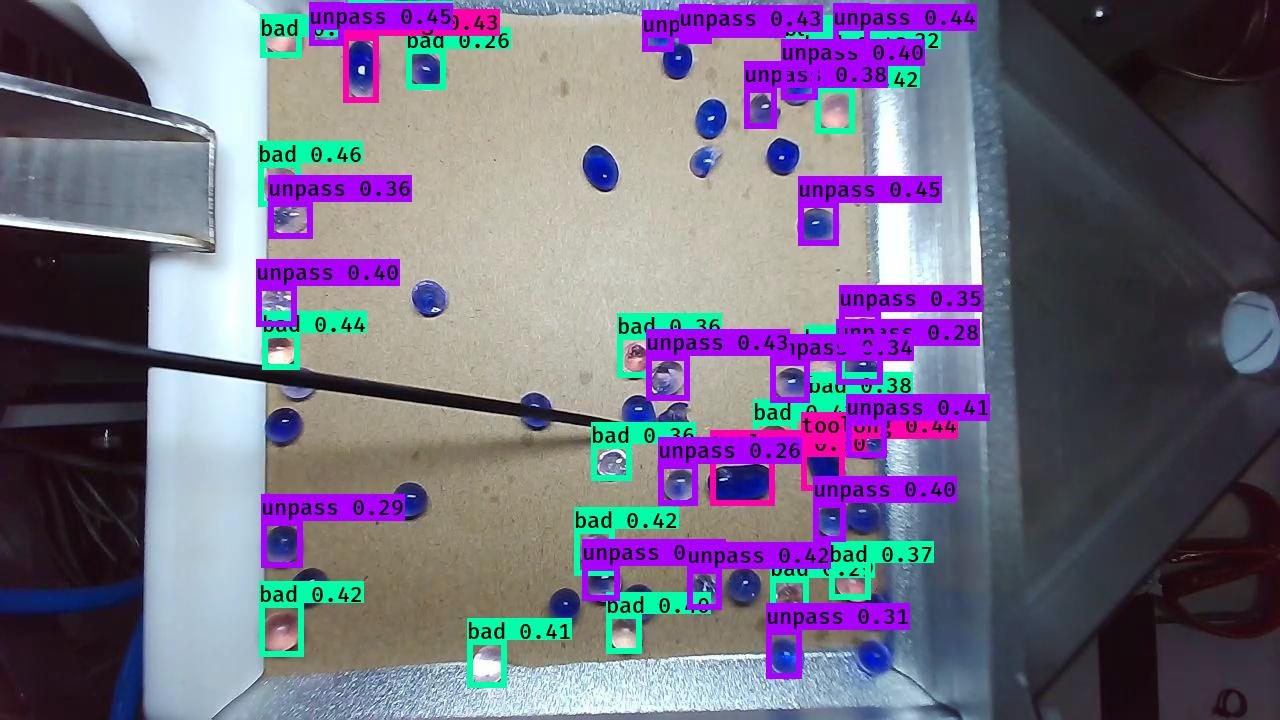bad: (839, 383, 890, 431), (256, 606, 304, 655), (784, 15, 829, 62), (266, 9, 310, 55), (815, 92, 859, 135), (467, 641, 507, 686), (261, 163, 304, 204), (605, 614, 646, 655), (769, 579, 810, 620), (831, 566, 870, 609), (260, 331, 299, 371), (578, 529, 616, 570), (832, 52, 873, 89), (592, 444, 633, 481), (347, 2, 385, 40), (407, 49, 443, 88), (753, 423, 790, 460), (809, 347, 845, 384), (616, 343, 652, 379), (811, 394, 846, 430), (802, 53, 835, 91)
defact: (687, 143, 727, 181)
pass: (578, 144, 621, 195), (287, 565, 334, 610), (386, 479, 431, 523), (843, 492, 884, 538), (617, 391, 659, 434), (515, 391, 555, 435), (261, 406, 304, 446), (690, 94, 729, 138), (546, 583, 584, 627), (763, 135, 801, 178), (412, 277, 452, 317), (619, 580, 656, 623), (857, 591, 892, 632), (662, 45, 696, 83)
toolong: (703, 465, 777, 511), (342, 39, 382, 105), (805, 436, 848, 496)
unpass: (794, 201, 844, 246), (260, 525, 308, 570), (832, 1, 875, 51), (836, 344, 880, 387), (256, 286, 300, 327), (647, 356, 686, 402), (269, 201, 314, 240), (769, 361, 808, 404), (845, 421, 889, 459), (766, 638, 806, 678), (842, 311, 882, 351), (726, 565, 763, 607), (684, 571, 721, 612), (661, 463, 697, 505), (584, 563, 622, 602), (858, 639, 897, 676), (679, 8, 715, 48), (747, 89, 781, 130), (309, 5, 346, 42), (813, 504, 848, 542), (640, 15, 674, 52)
